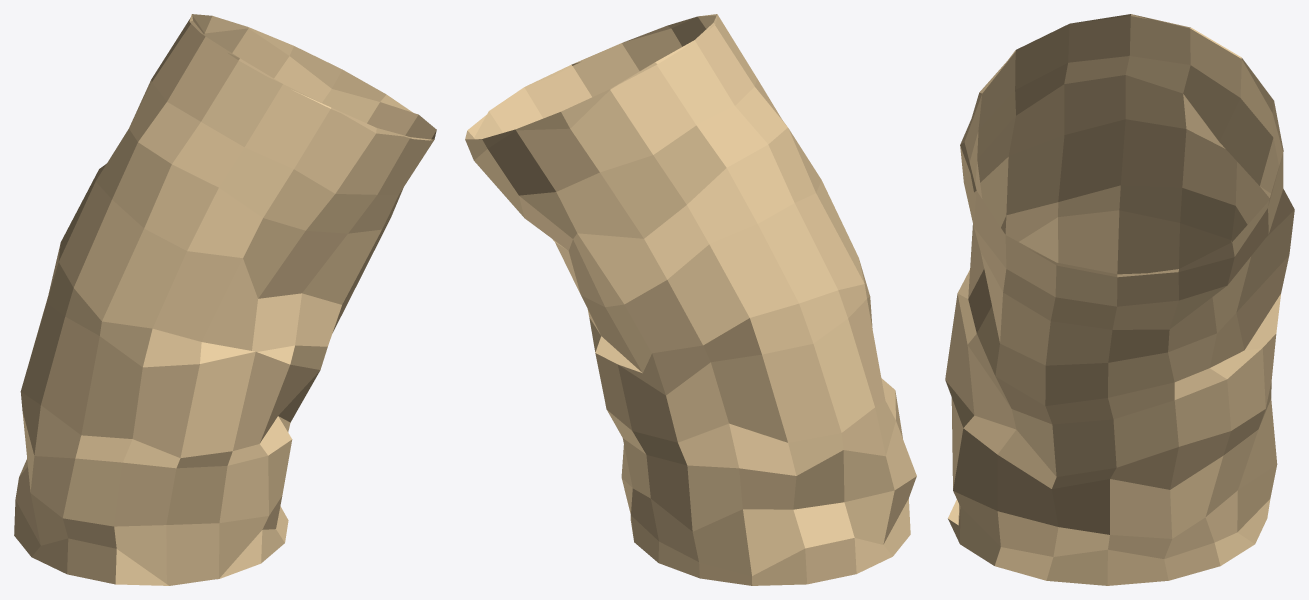
The model's file is vessel_blend.fbx.
The picture shows the model from 3 angles, left to right: view 1: azimuth 30°, elevation 25°; view 2: azimuth 150°, elevation 25°; view 3: azimuth 270°, elevation 25°; orthographic projection. The views are drawn at different scales.
Visible parts, largest first — view 1: Cylinder; view 2: Cylinder; view 3: Cylinder.
Part boxes in pixels (bbox=[...]): Cylinder: bbox=[14, 14, 436, 585]; Cylinder: bbox=[465, 14, 916, 585]; Cylinder: bbox=[945, 14, 1294, 585].
Size of the model in its own units: 3.28 by 3.77 by 2.19.
